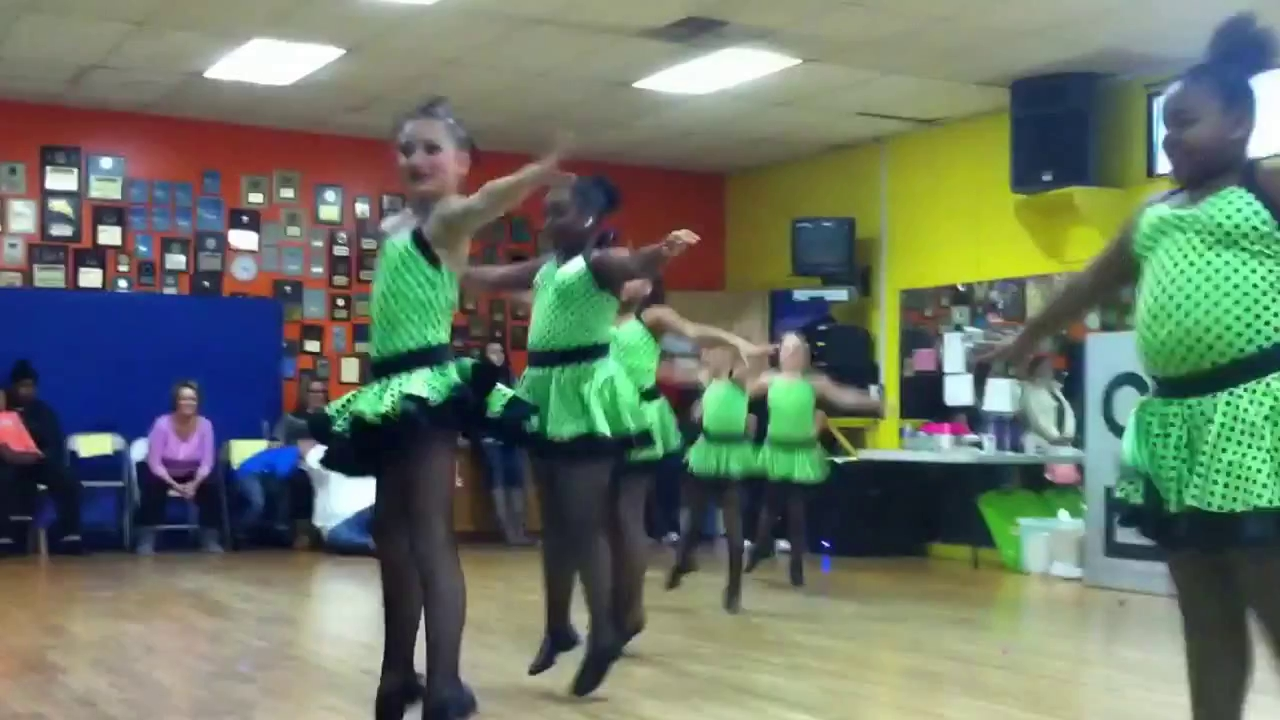person: (964, 12, 1276, 720), (308, 97, 575, 720), (517, 173, 701, 697), (748, 333, 882, 587)
